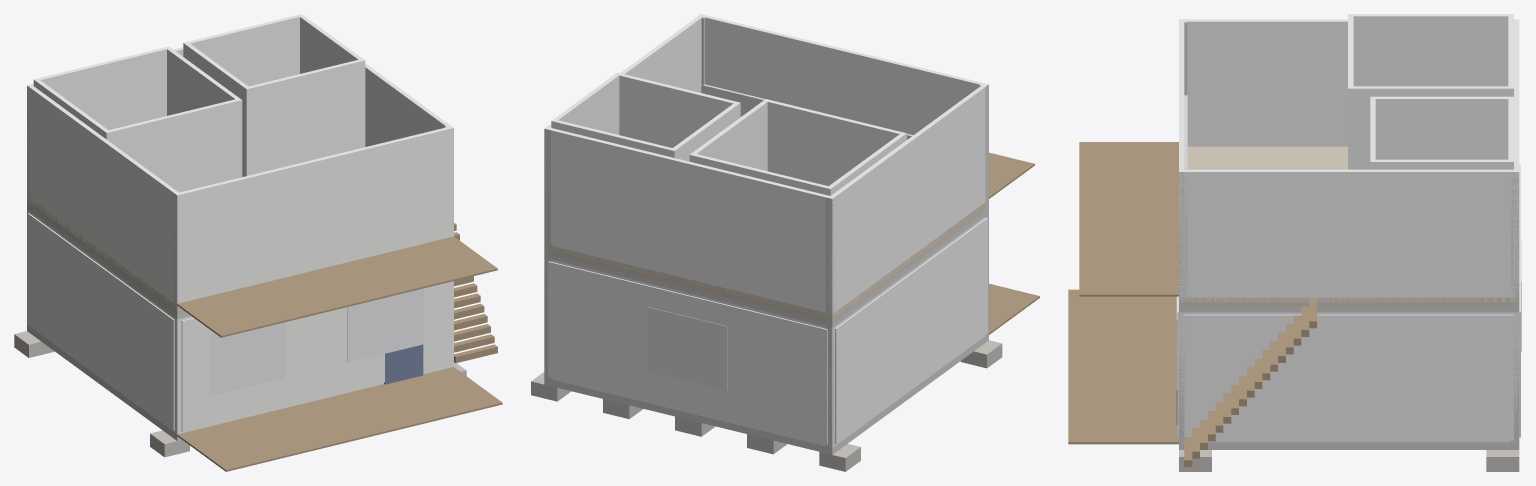
File: Duplex-20-Premium+TerraceDeck-LOD0.glb
3 renders of one model, left to right at view 1: azimuth 30°, elevation 25°; view 2: azimuth 150°, elevation 25°; view 3: azimuth 270°, elevation 25°, orthographic. The views are drawn at different scales.
Visible parts, largest first — view 1: ExteriorShellUpper, ExteriorPanelsPremium, StudyUpper, BedroomUpper, TerraceDeck, BalconyUpper, WindowsLargeUpgrade, ExteriorShell, StaircaseExternal, BalconyGround, FoundationBlocks, FloorUpper (+4 smaller); view 2: ExteriorShellUpper, ExteriorPanelsPremium, BedroomUpper, StudyUpper, WindowsLargeUpgrade, VerticalStructure, FloorUpper, FoundationBlocks, BaseFrame, ExteriorShell, TopFrame, TerraceDeck (+3 smaller); view 3: ExteriorShellUpper, ExteriorPanelsPremium, TerraceDeck, BalconyUpper, BedroomUpper, StudyUpper, FloorUpper, BalconyGround, StaircaseExternal, VerticalStructure, ExteriorShell, BaseFrame (+2 smaller).
Part boxes in pixels (box(x1,y1,x2,y2)): ExteriorShellUpper: box(27, 47, 453, 309); ExteriorPanelsPremium: box(28, 213, 450, 431); StudyUpper: box(183, 14, 365, 176); BedroomUpper: box(33, 46, 242, 191); TerraceDeck: box(177, 367, 502, 471); BalconyUpper: box(177, 236, 497, 337); WindowsLargeUpgrade: box(209, 288, 423, 396); ExteriorShell: box(27, 209, 453, 434); StaircaseExternal: box(454, 223, 497, 363); BalconyGround: box(178, 368, 453, 460); FoundationBlocks: box(14, 331, 466, 457); FloorUpper: box(27, 197, 186, 314); ExteriorShellUpper: box(544, 14, 988, 317); ExteriorPanelsPremium: box(548, 217, 987, 444); BedroomUpper: box(689, 99, 906, 195); StudyUpper: box(551, 72, 740, 161); WindowsLargeUpgrade: box(647, 307, 727, 390); VerticalStructure: box(544, 17, 988, 447); FloorUpper: box(544, 202, 985, 322); FoundationBlocks: box(531, 340, 1002, 471); BaseFrame: box(544, 333, 988, 454); ExteriorShell: box(544, 216, 985, 447); TopFrame: box(545, 210, 987, 327); TerraceDeck: box(989, 283, 1039, 334); ExteriorShellUpper: box(1179, 19, 1519, 302); ExteriorPanelsPremium: box(1177, 164, 1520, 440); TerraceDeck: box(1068, 289, 1178, 444); BalconyUpper: box(1079, 142, 1178, 296); BedroomUpper: box(1348, 14, 1513, 169); StudyUpper: box(1370, 96, 1513, 169); FloorUpper: box(1179, 146, 1519, 307); BalconyGround: box(1096, 296, 1178, 444); StaircaseExternal: box(1184, 298, 1316, 467); VerticalStructure: box(1179, 21, 1519, 442); ExteriorShell: box(1179, 312, 1519, 442); BaseFrame: box(1179, 442, 1519, 449).
Bounding box in the file's own units: 7.94 × 6 × 8.2.
